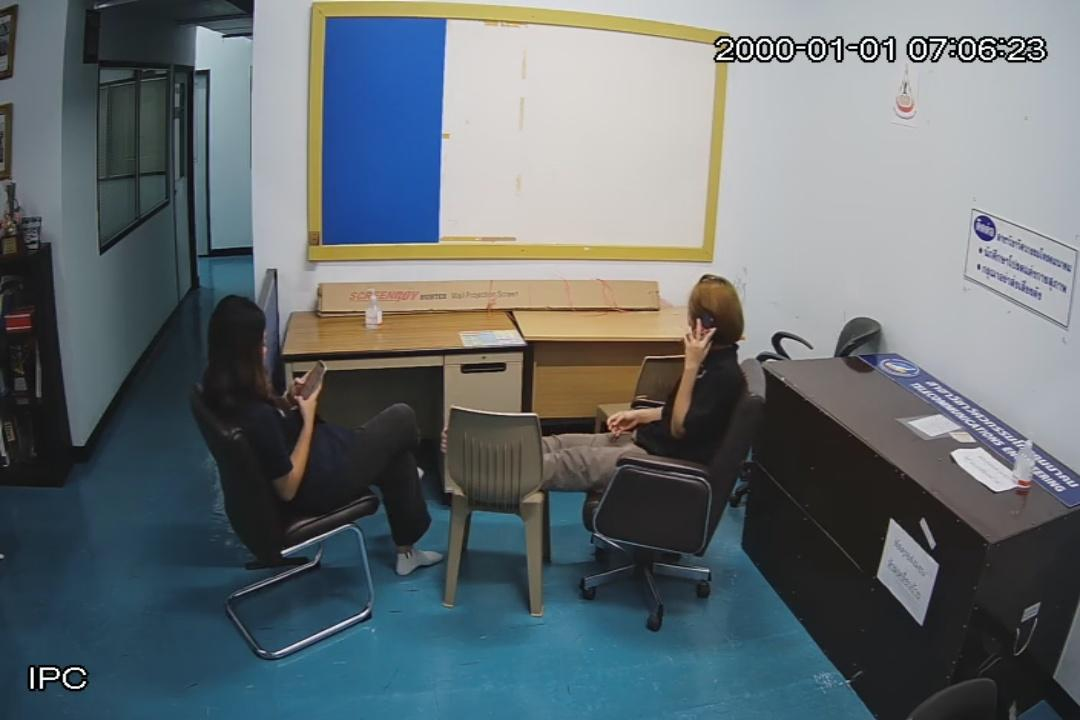normal: (498, 277, 764, 607), (203, 288, 455, 580)
